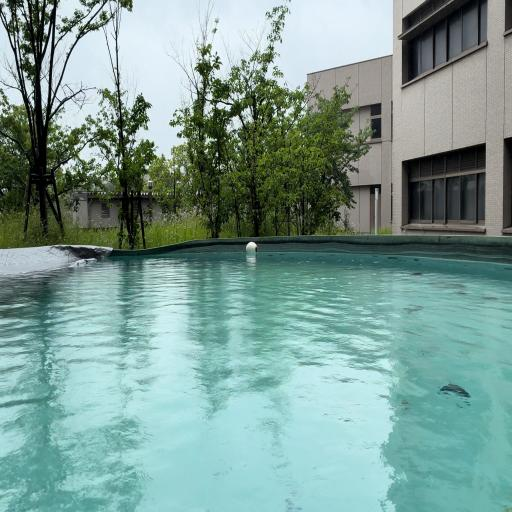white buoy: (246, 241, 257, 253)
